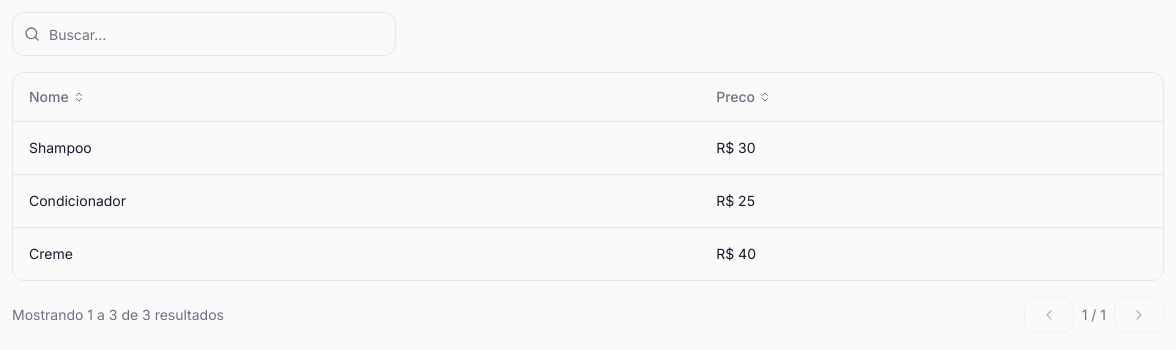
Scenario: DataTable › Search › should filter rows based on search input
Type "Shampoo" into the field with placeholder "Buscar...". click: [204, 34]
box: [12,12,396,56]
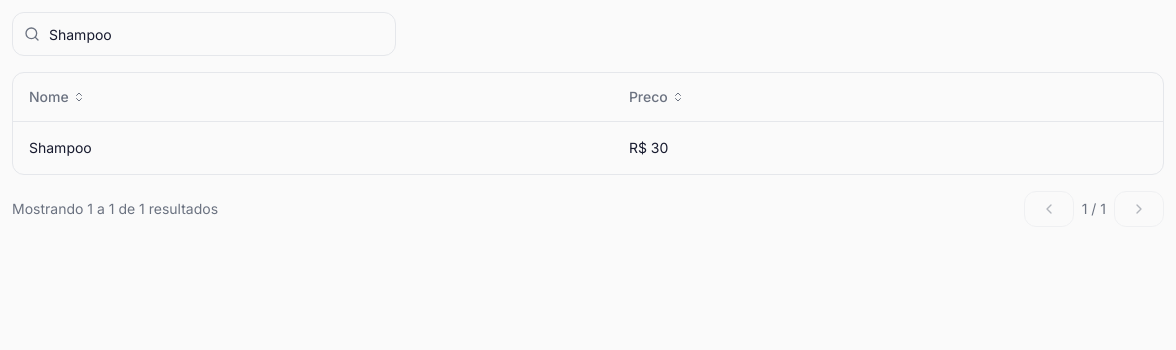
Expected: the text "Shampoo" is shown, [13,121,613,174]
Now the text "Condicionador" is gone
Now the text "Creme" is gone
